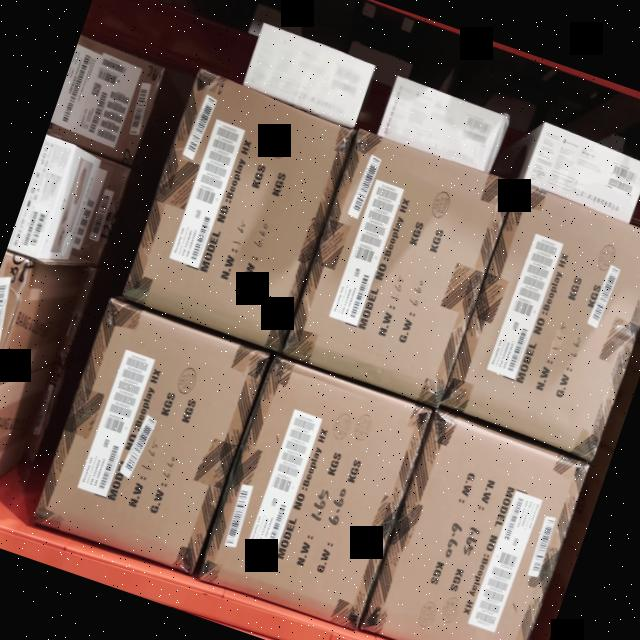box: (123, 71, 360, 352), (34, 300, 268, 572), (282, 132, 514, 406), (200, 359, 430, 630), (442, 190, 640, 455), (363, 413, 584, 640), (242, 28, 374, 122), (378, 78, 504, 172), (524, 130, 640, 219)
